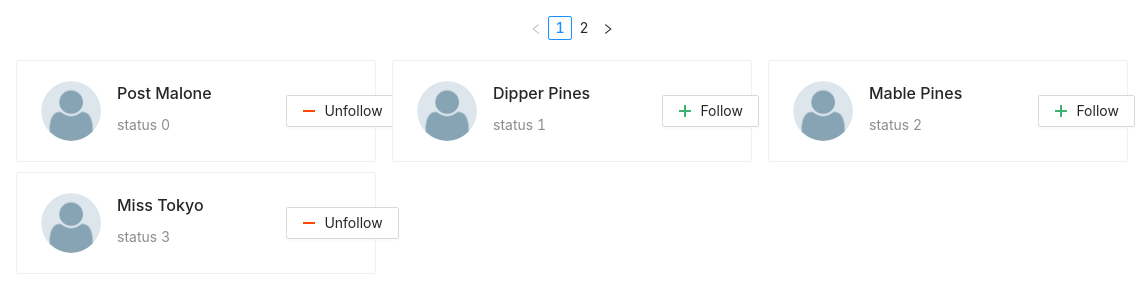
Scenario: Users Component › user should be followed
Expected: the element with test id "UserItem.1" is shown, [392, 60, 752, 162]
Click the button with test id "FollowUser.Submit.1" at (711, 111), box [662, 95, 759, 127]
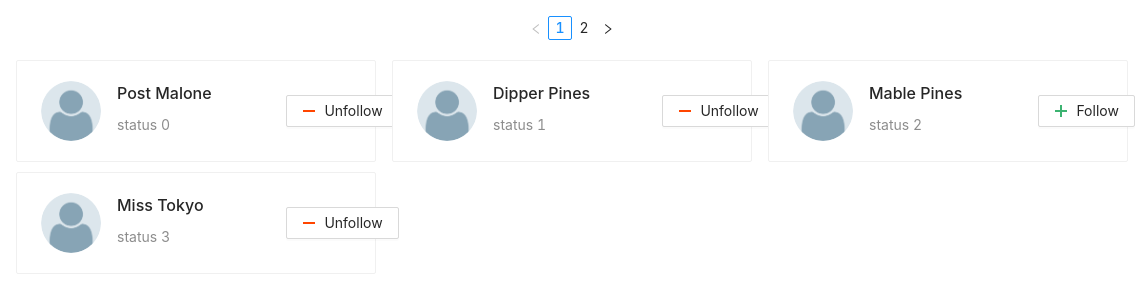
Result: the button with test id "FollowUser.Submit.1" reads "Unfollow" at [662, 95, 775, 127]
